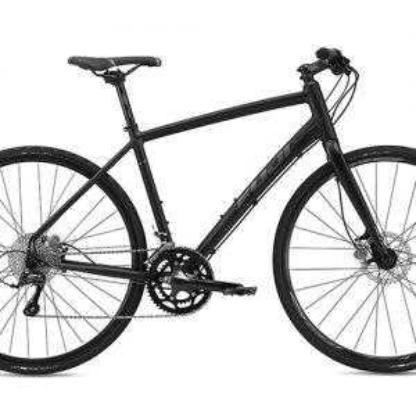Bicycle: (0, 35, 414, 380)
